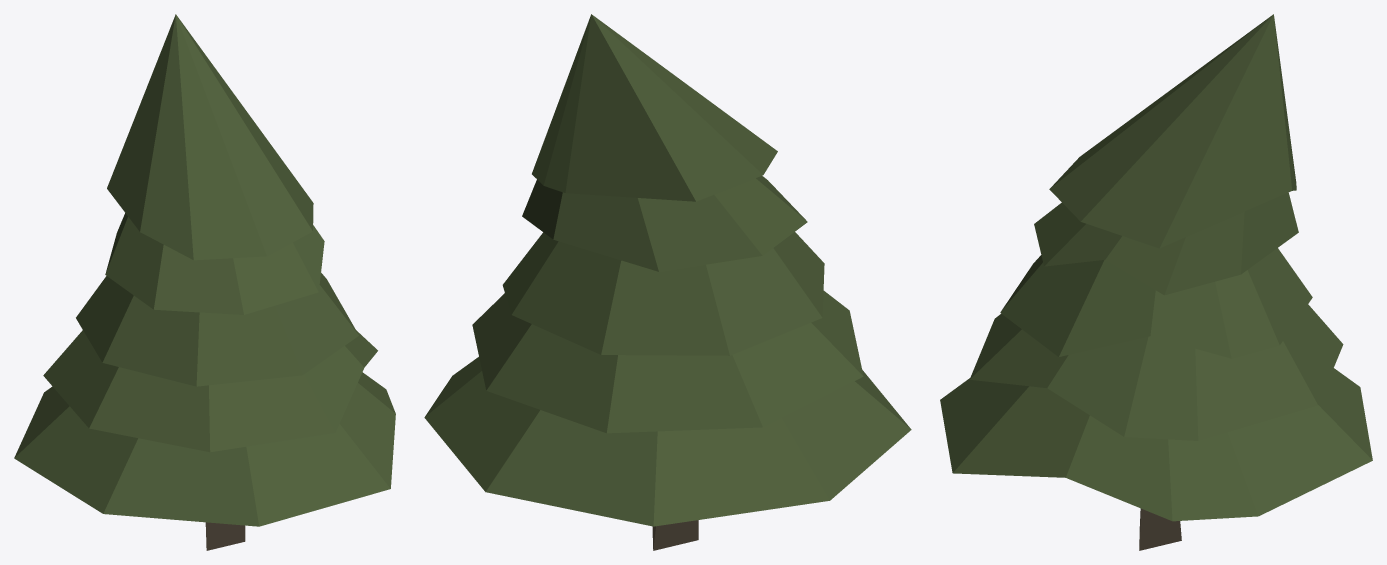
The model's file is Tree D, 3.fbx.
The picture shows the model from 3 angles, left to right: view 1: azimuth 30°, elevation 25°; view 2: azimuth 150°, elevation 25°; view 3: azimuth 270°, elevation 25°; orthographic projection. The views are drawn at different scales.
Parts seen in each view (by area): view 1: Cylinder.003; view 2: Cylinder.003; view 3: Cylinder.003.
Boxes of the visible parts, left/top/right/bottom form: Cylinder.003: left=14, top=14, right=395, bottom=550; Cylinder.003: left=424, top=14, right=911, bottom=550; Cylinder.003: left=940, top=14, right=1372, bottom=550.
Size of the model in its own units: 538 by 719 by 529.
